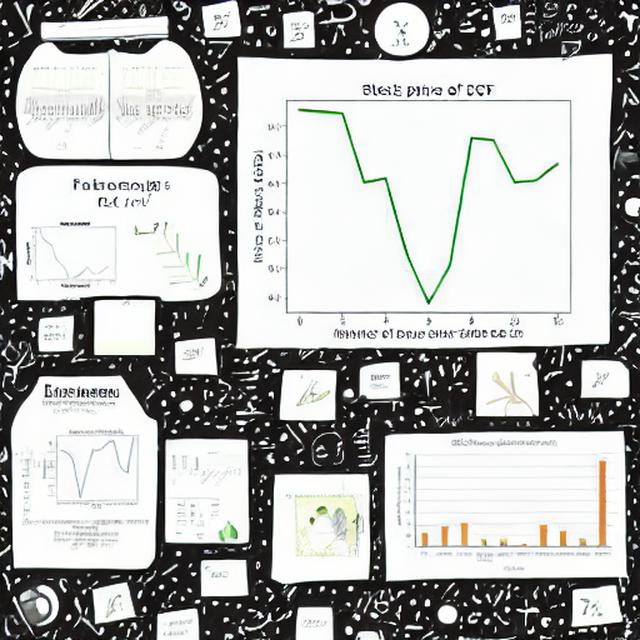Graph: (240, 67, 608, 343), (393, 435, 615, 575), (39, 425, 152, 510), (22, 214, 126, 292), (23, 85, 105, 133), (179, 449, 245, 489)
